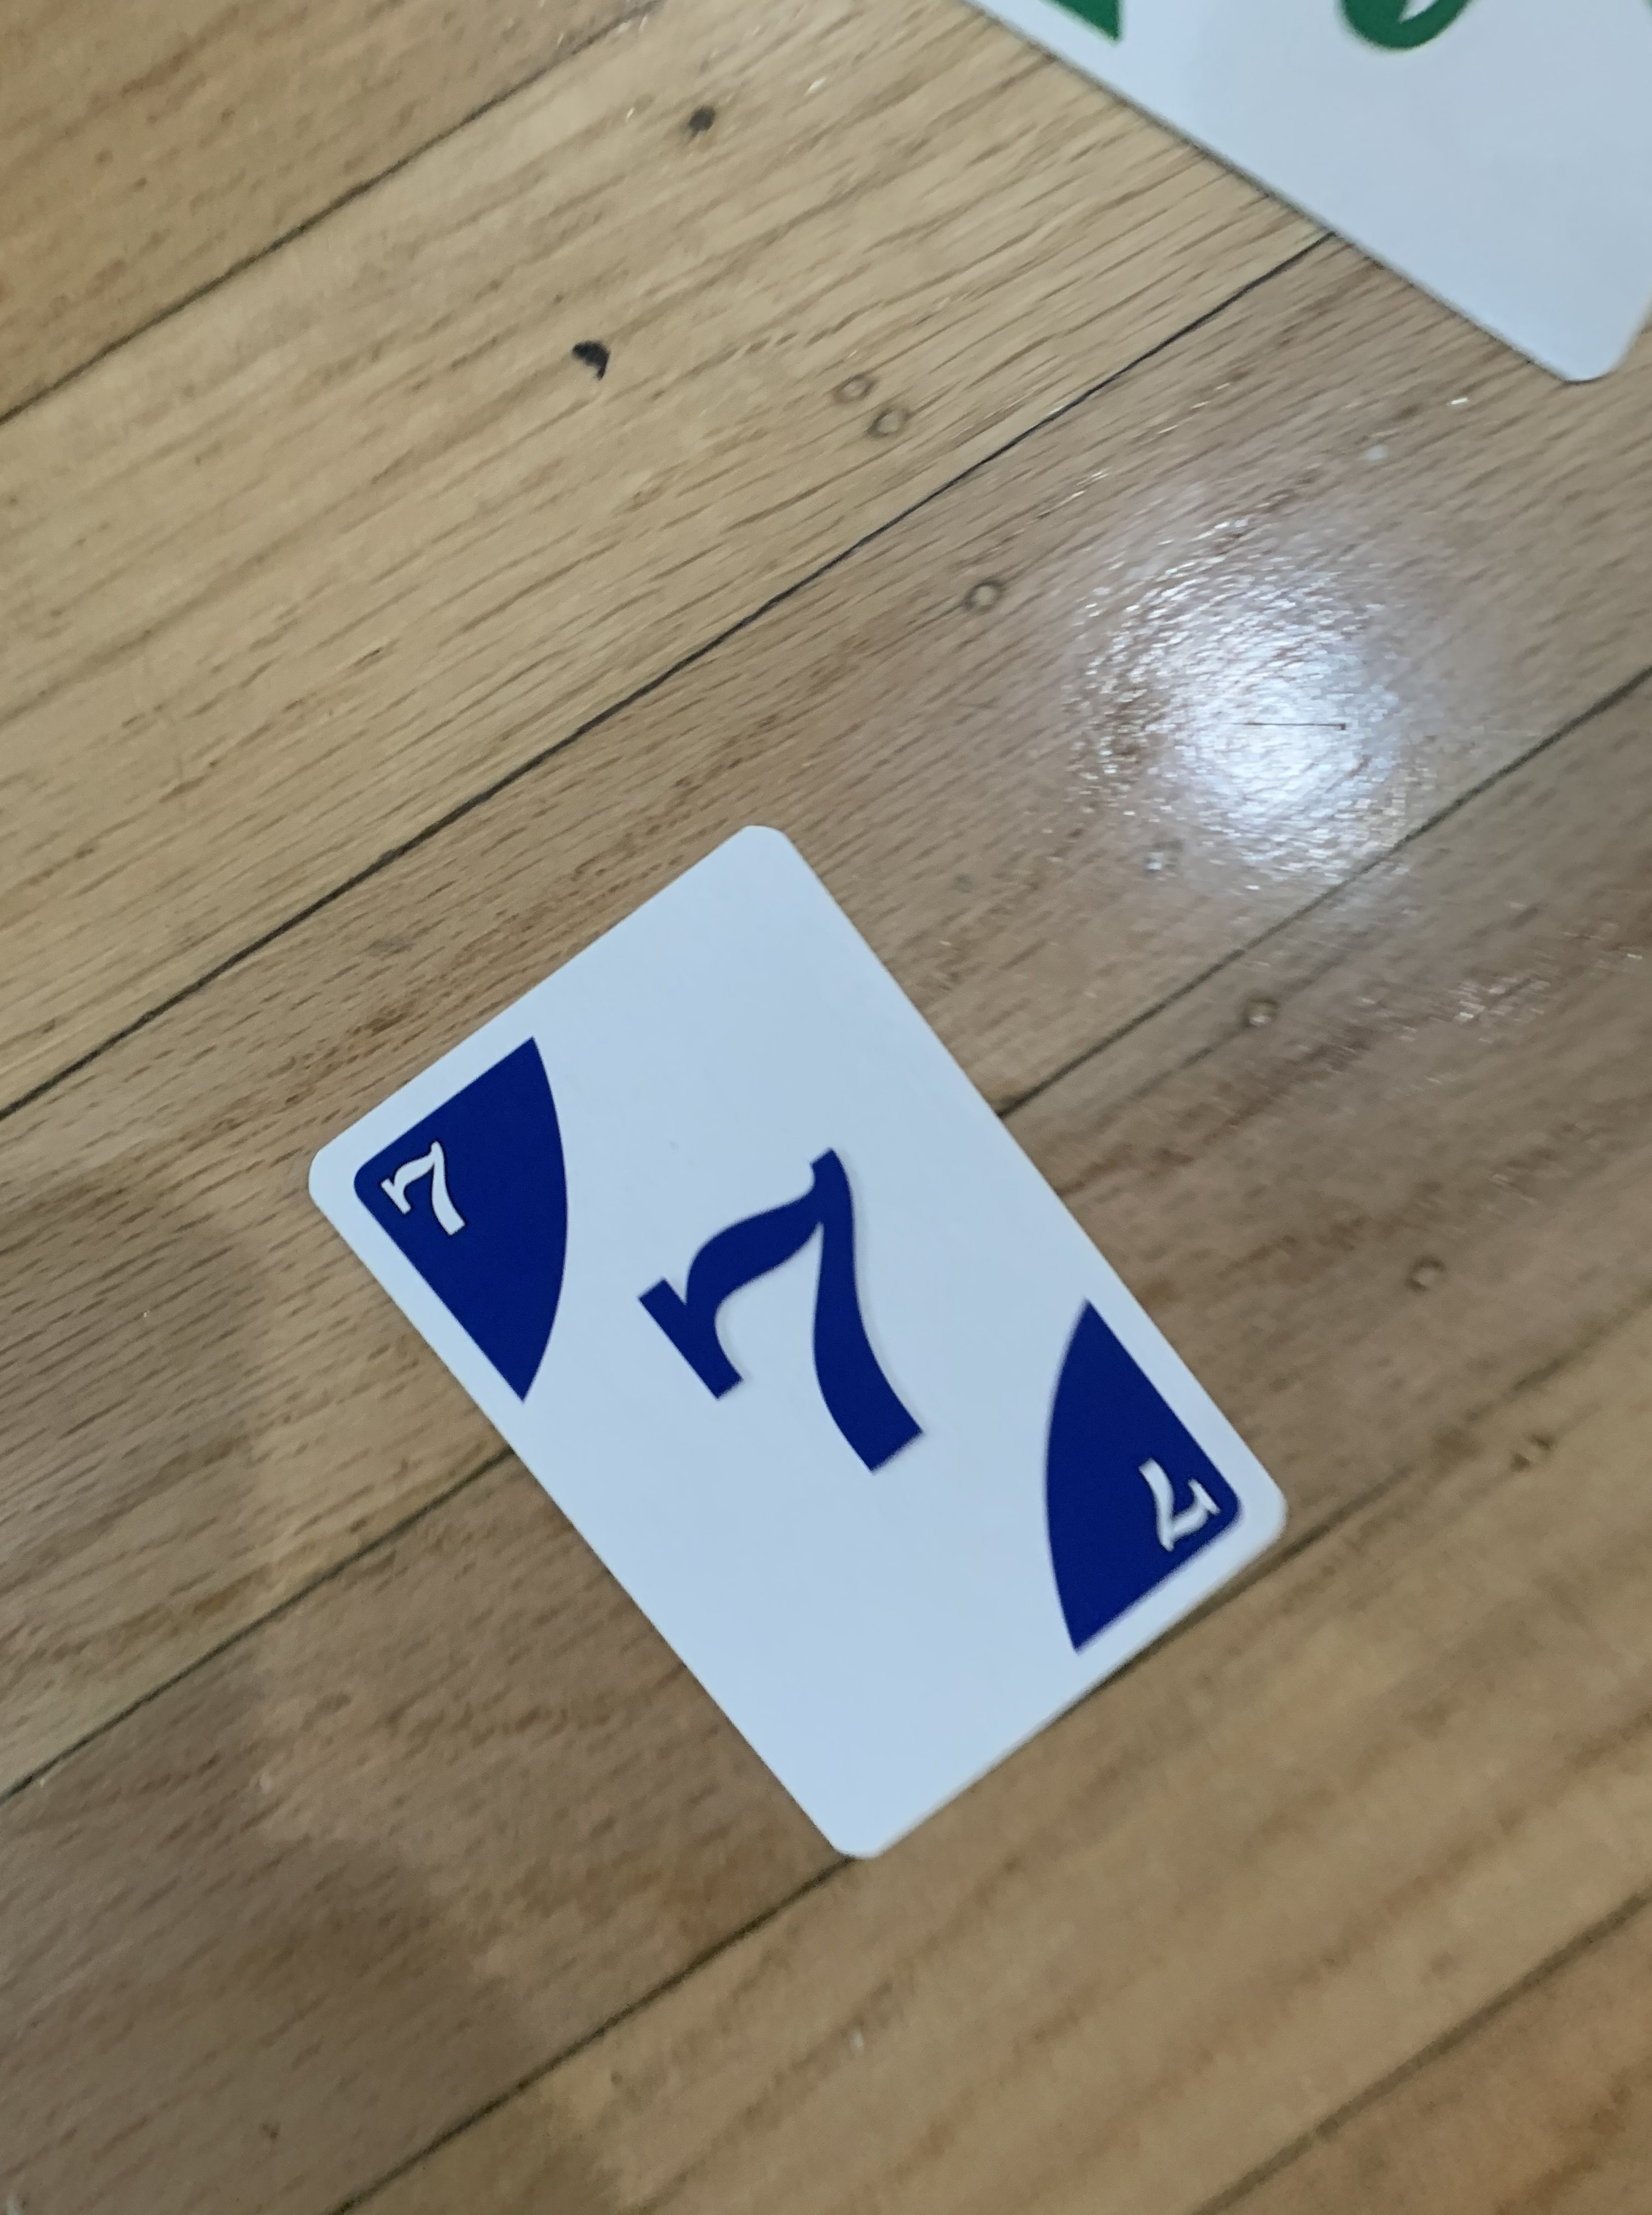seven: (309, 814, 1293, 1875)
